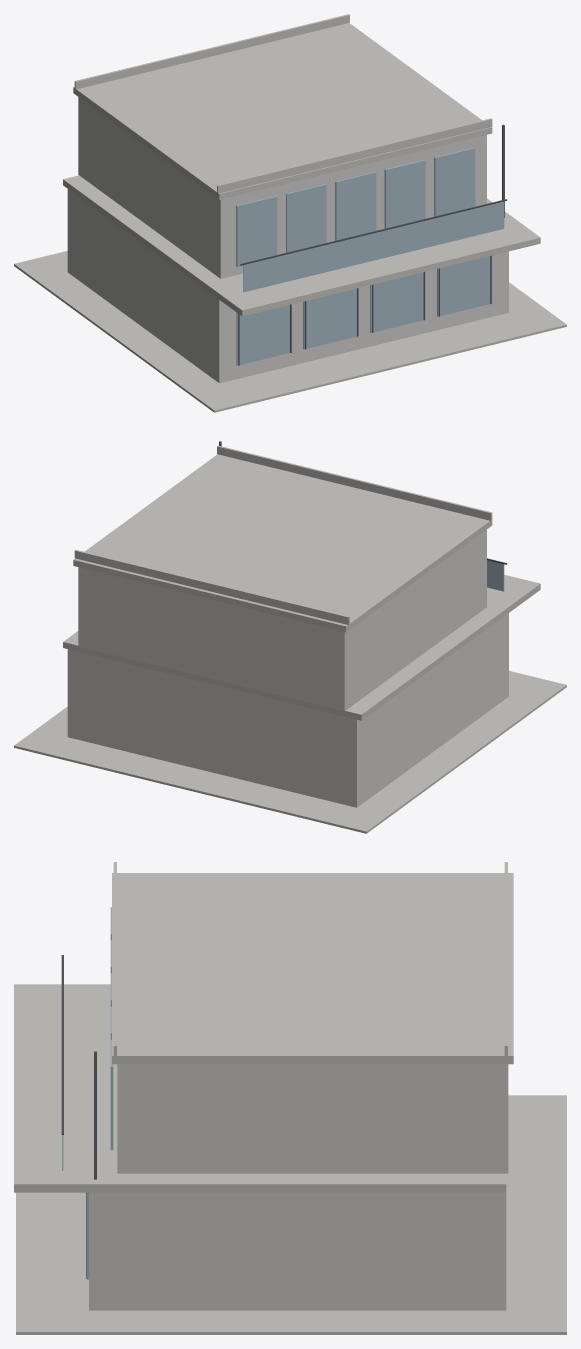
The model's file is modern-family.glb.
3 views of the same model, one above another, from view 1: azimuth 30°, elevation 25°; view 2: azimuth 150°, elevation 25°; view 3: azimuth 270°, elevation 25° (orthographic). The views are drawn at different scales.
Visible parts, largest first — view 1: House; view 2: House; view 3: House.
Boxes of the visible parts, x1,y1,x2,y2 form: House: [14, 14, 566, 412]; House: [14, 441, 566, 833]; House: [14, 862, 566, 1334].
Bounding box in the file's own units: 13.4 × 6.94 × 13.25.
